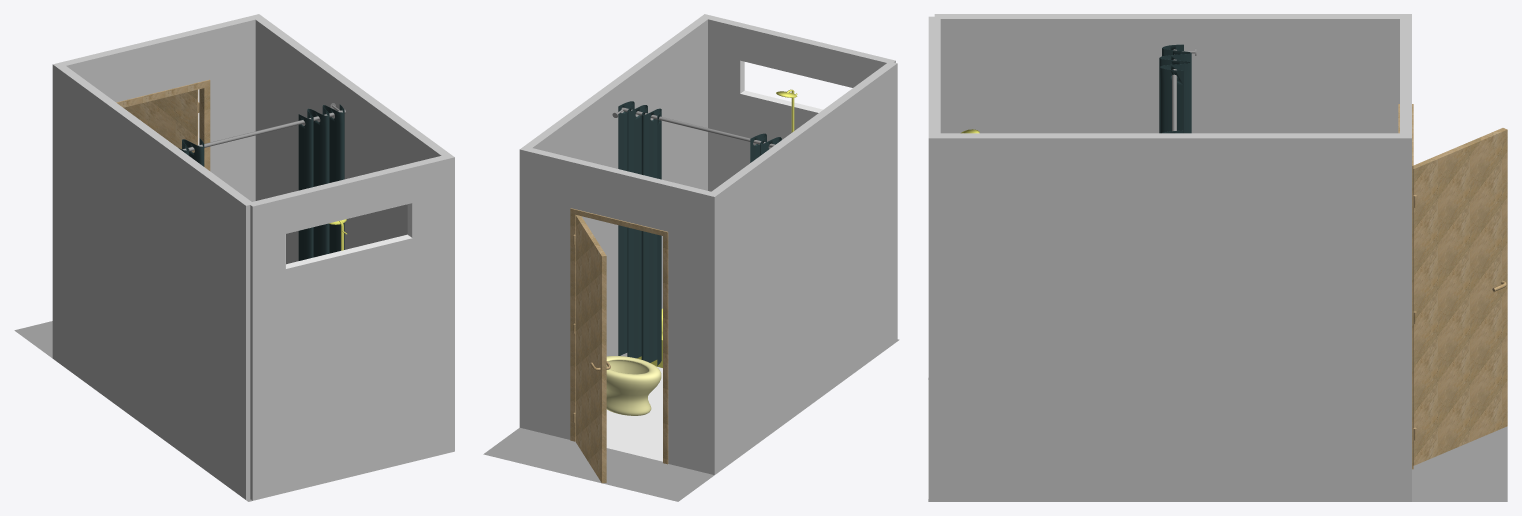
File: BañoDerecha.obj
3 renders of one model, left to right at view 1: azimuth 30°, elevation 25°; view 2: azimuth 150°, elevation 25°; view 3: azimuth 270°, elevation 25°, orthographic. The views are drawn at different scales.
Visible parts, largest first — view 1: wall_1_5, wall_3_16, wall_5_29, wall_4_23, wall_2_11, RightCurtain_63_39, sweethome3d_opening_on_hinge_1_door_80, frame_72, wall_5_30, serviceHatch_33, wall_5_31, wall_2_12 (+9 smaller); view 2: wall_3_16, wall_4_22, wall_5_29, wall_1_4, RightCurtain_63_39, sweethome3d_opening_on_hinge_1_door_80, ground_1, wall_2_11, frame_72, room_6_32, Bas_51, wall_5_30 (+10 smaller); view 3: wall_5_28, wall_2_10, sweethome3d_opening_on_hinge_1_door_80, ground_1, LeftCurtain_64_41, wall_5_30, wall_2_13, wall_5_31, wall_2_12, wall_1_7, wall_1_6, frame_72 (+3 smaller).
Part boxes in pixels (left/top/right/bottom): wall_1_5: left=250, top=157, right=454, bottom=500; wall_3_16: left=52, top=64, right=245, bottom=497; wall_5_29: left=255, top=20, right=441, bottom=264; wall_4_23: left=66, top=19, right=255, bottom=201; wall_2_11: left=161, top=147, right=250, bottom=499; RightCurtain_63_39: left=298, top=104, right=344, bottom=260; sweethome3d_opening_on_hinge_1_door_80: left=123, top=89, right=198, bottom=152; frame_72: left=116, top=79, right=210, bottom=170; wall_5_30: left=257, top=14, right=454, bottom=157; serviceHatch_33: left=285, top=203, right=412, bottom=268; wall_5_31: left=256, top=17, right=447, bottom=156; wall_2_12: left=61, top=64, right=252, bottom=204; wall_3_16: left=714, top=64, right=897, bottom=474; wall_4_22: left=519, top=149, right=714, bottom=474; wall_5_29: left=533, top=19, right=707, bottom=356; wall_1_4: left=708, top=19, right=886, bottom=191; RightCurtain_63_39: left=618, top=101, right=661, bottom=365; sweethome3d_opening_on_hinge_1_door_80: left=575, top=215, right=606, bottom=483; ground_1: left=483, top=339, right=899, bottom=501; wall_2_11: left=848, top=63, right=897, bottom=374; frame_72: left=570, top=208, right=668, bottom=464; room_6_32: left=606, top=367, right=662, bottom=461; Bas_51: left=606, top=356, right=661, bottom=415; wall_5_30: left=520, top=14, right=705, bottom=149; wall_5_28: left=928, top=138, right=1411, bottom=501; wall_2_10: left=940, top=19, right=1399, bottom=133; sweethome3d_opening_on_hinge_1_door_80: left=1413, top=128, right=1507, bottom=465; ground_1: left=928, top=378, right=1507, bottom=501; LeftCurtain_64_41: left=1159, top=44, right=1191, bottom=133; wall_5_30: left=929, top=136, right=1411, bottom=138; wall_2_13: left=934, top=14, right=1405, bottom=16; wall_5_31: left=935, top=133, right=1405, bottom=135; wall_2_12: left=935, top=16, right=1405, bottom=18; wall_1_7: left=928, top=16, right=934, bottom=137; wall_1_6: left=934, top=16, right=940, bottom=135; frame_72: left=1398, top=104, right=1413, bottom=469.
Size of the model in its own units: 184 by 250 by 361.
Materials: 17 (2 with a texture image).
